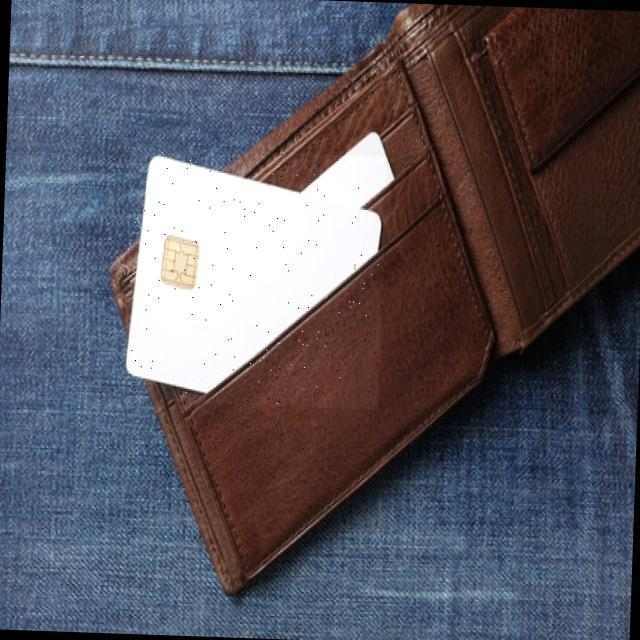payment_card: (124, 130, 396, 395)
